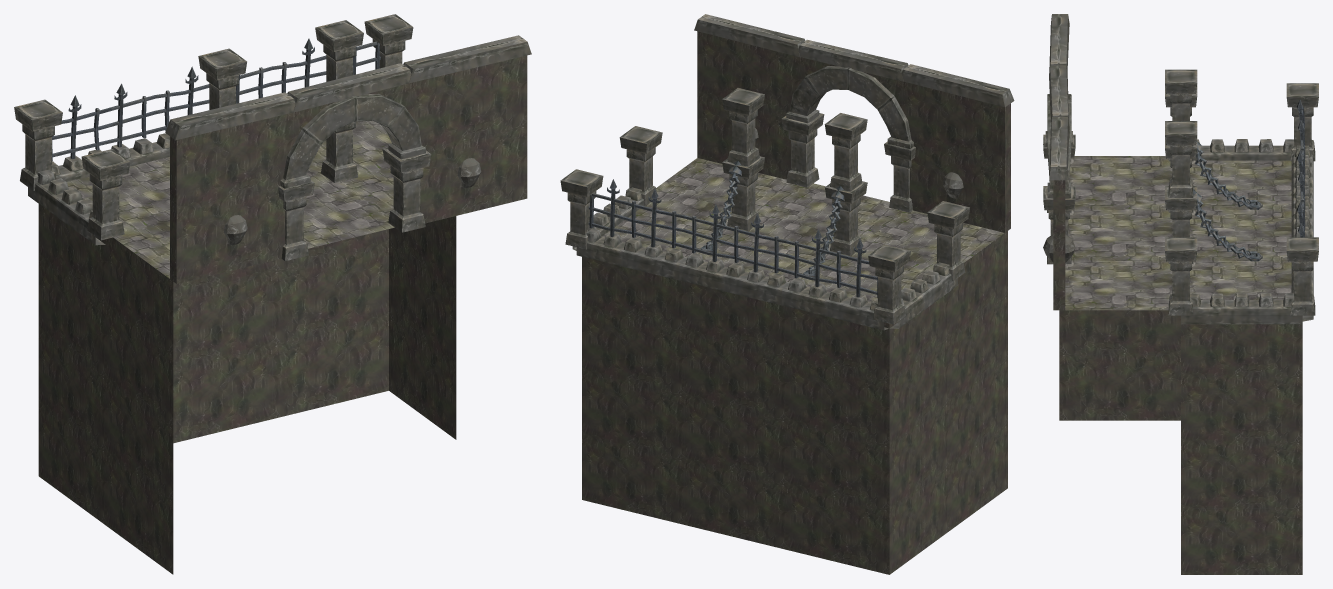
File: balcony.obj
3 views of the same model, side by side, from view 1: azimuth 30°, elevation 25°; view 2: azimuth 150°, elevation 25°; view 3: azimuth 270°, elevation 25° (orthographic). The views are drawn at different scales.
Visible parts, largest first — view 1: balcony; view 2: balcony; view 3: balcony.
Part boxes in pixels (left/top/right/bottom): balcony: left=14, top=14, right=531, bottom=574; balcony: left=560, top=14, right=1014, bottom=574; balcony: left=1043, top=14, right=1318, bottom=574.
Size of the model in its own units: 32.66 by 36.94 by 22.67.
